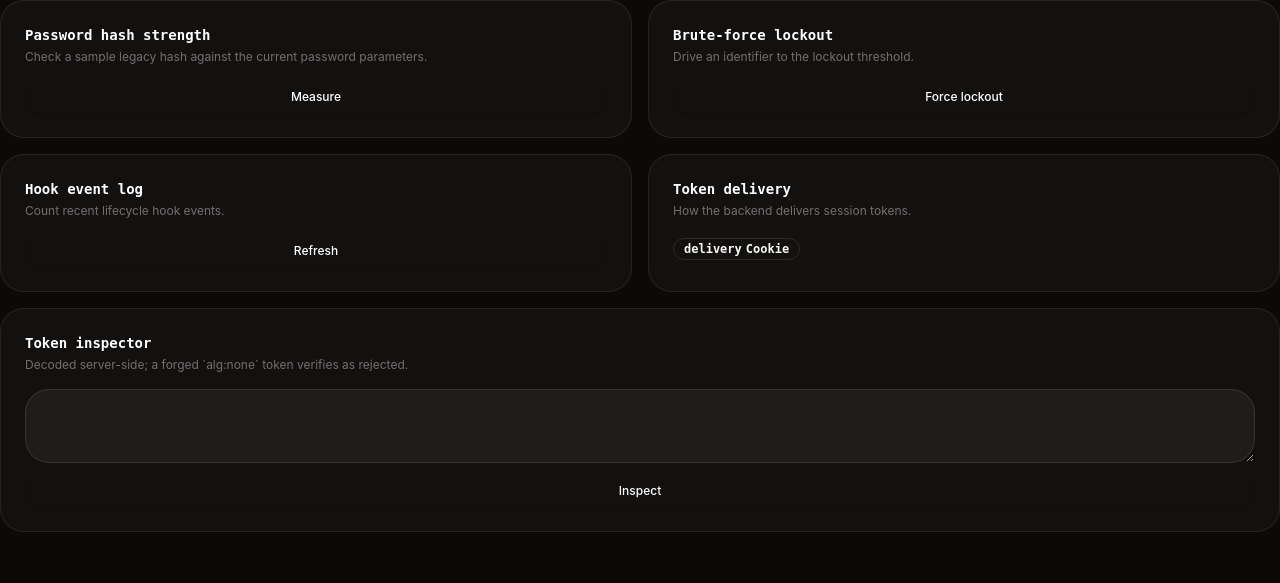
DiagnosticsMatrix — lockout › posts an identifier body and renders the retry countdown when locked
Click the button "Force lockout": {"x": 964, "y": 97} [673,81,1255,113]
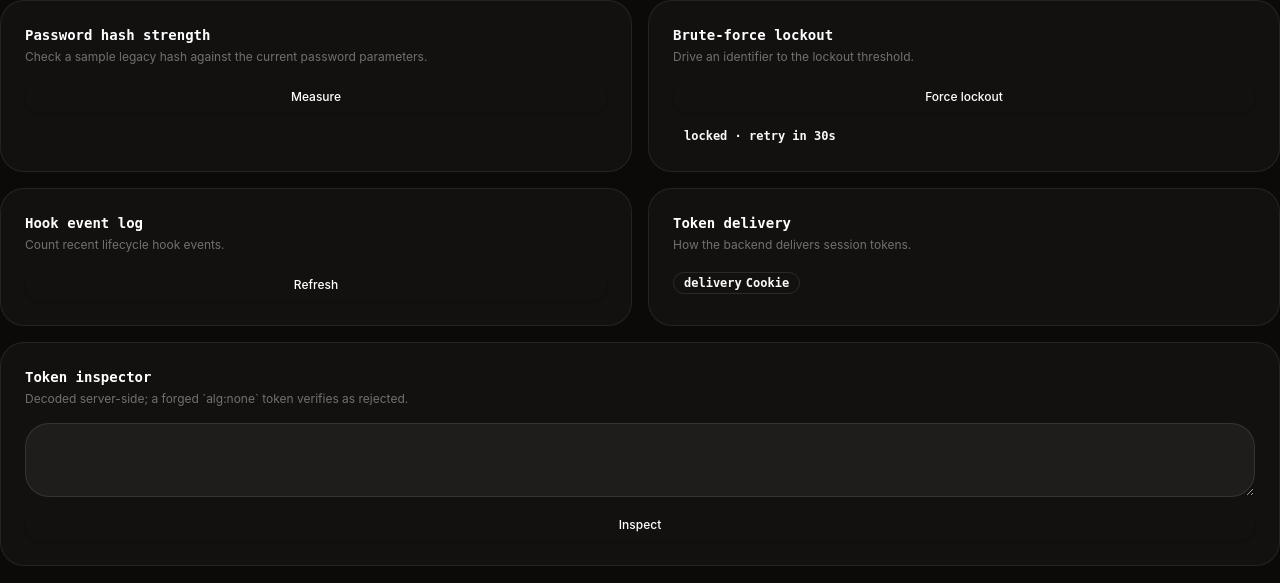
Expected: the text "locked · retry in 30s" is shown, [673,125,847,147]
